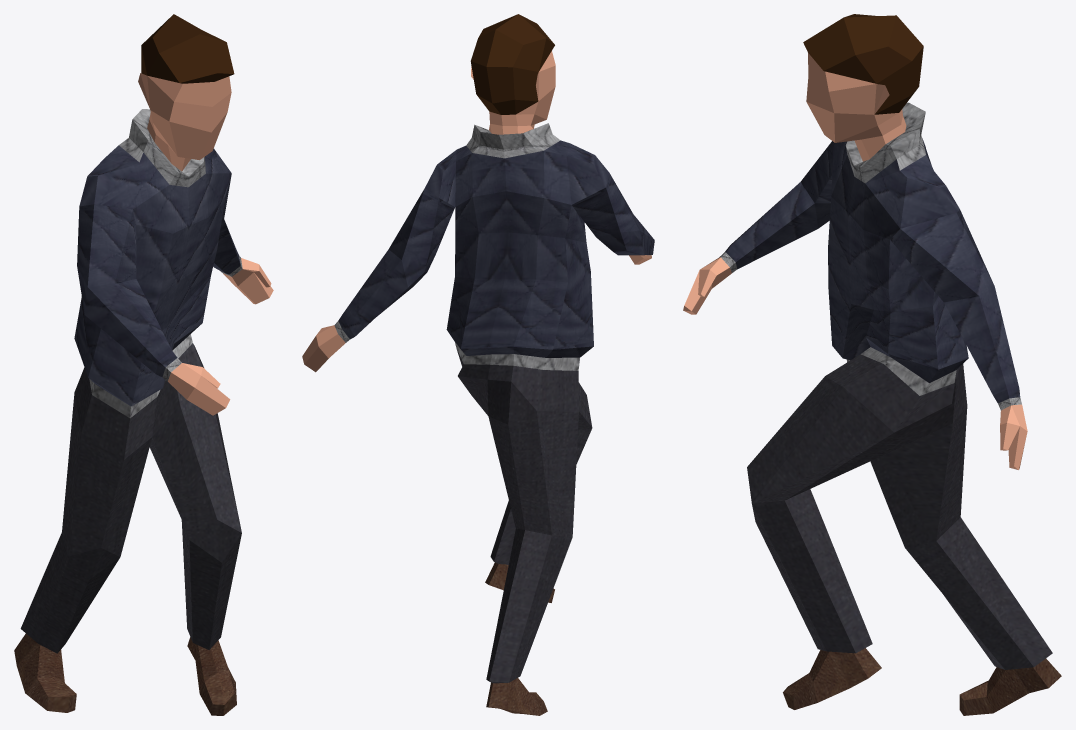
The model's file is AutumnBoy.007.glb.
3 renders of one model, left to right at view 1: azimuth 30°, elevation 25°; view 2: azimuth 150°, elevation 25°; view 3: azimuth 270°, elevation 25°, orthographic. The views are drawn at different scales.
Parts seen in each view (by area): view 1: AutumnBoy.007; view 2: AutumnBoy.007; view 3: AutumnBoy.007.
Part boxes in pixels (x1,y1,x2,y2): AutumnBoy.007: (14,14,273,715); AutumnBoy.007: (302,14,654,715); AutumnBoy.007: (683,14,1061,715).
Size of the model in its own units: 0.6427 by 1.53 by 0.7166.
1 material, 1 textured.
